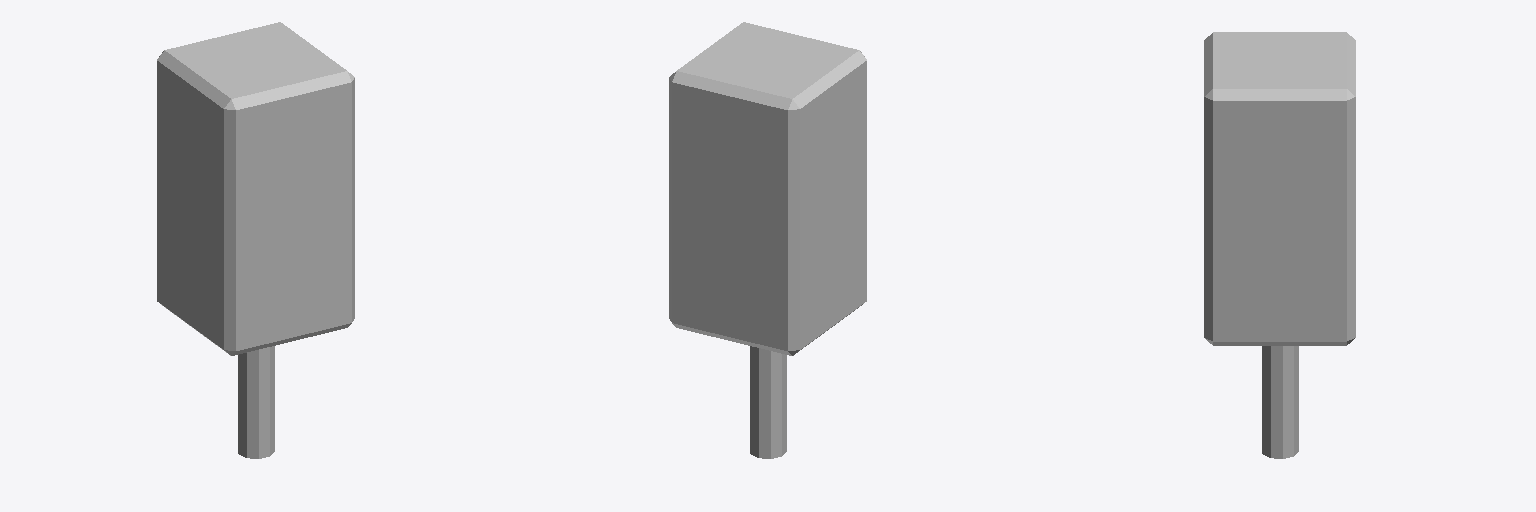
Rendered from Simple_Tree_3.obj.
3 views of the same model, side by side, from view 1: azimuth 30°, elevation 25°; view 2: azimuth 150°, elevation 25°; view 3: azimuth 270°, elevation 25° (orthographic).
Parts seen in each view (by area): view 1: Simple_Tree_3_Cylinder.006; view 2: Simple_Tree_3_Cylinder.006; view 3: Simple_Tree_3_Cylinder.006.
Boxes of the visible parts, box(x1,y1,x2,y2) form: Simple_Tree_3_Cylinder.006: box(157, 22, 354, 458); Simple_Tree_3_Cylinder.006: box(669, 22, 866, 458); Simple_Tree_3_Cylinder.006: box(1204, 32, 1355, 458).
Size of the model in its own units: 2.42 by 6.88 by 2.42.